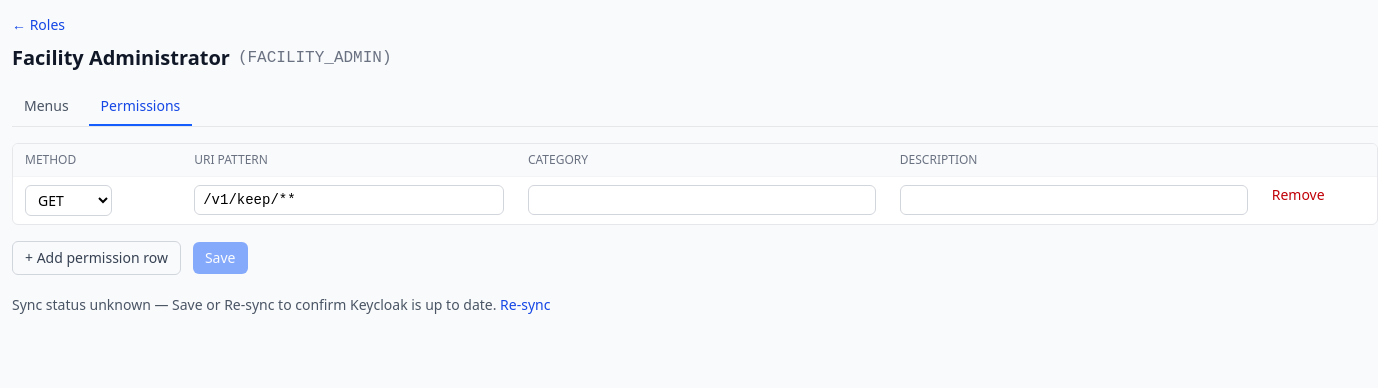
it: RolePermissionsTab › saves the COMPLETE set, then shows Synced from the server's response
The image size is (1378, 388).
Expected: the field showing "/v1/keep/**" is shown, [194,185,504,215]
Click the button "+ Add permission row".
click(96, 258)  # box [12,241,181,275]
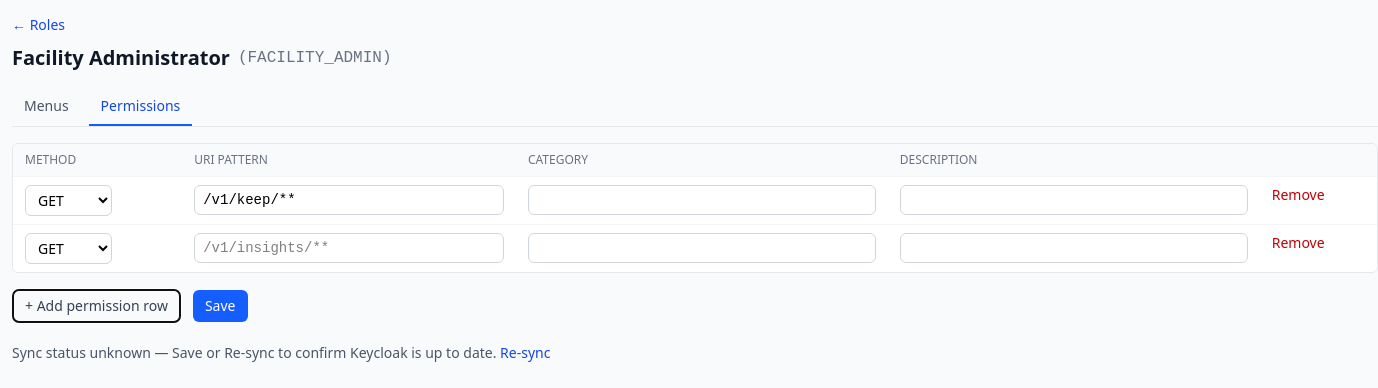
Select "POST" in the dropdown named "Method, row 2" at coordinates (68, 248), box [25,233,112,264]
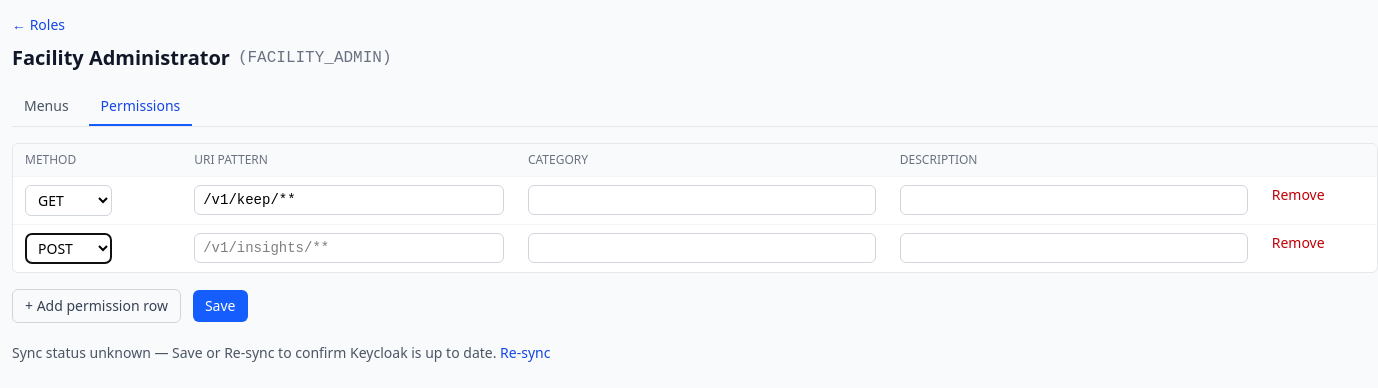
Type "/v1/events/**" into the field with placeholder "/v1/insights/**".
click(349, 248); type("/v1/events/**")  # box [194,233,504,263]
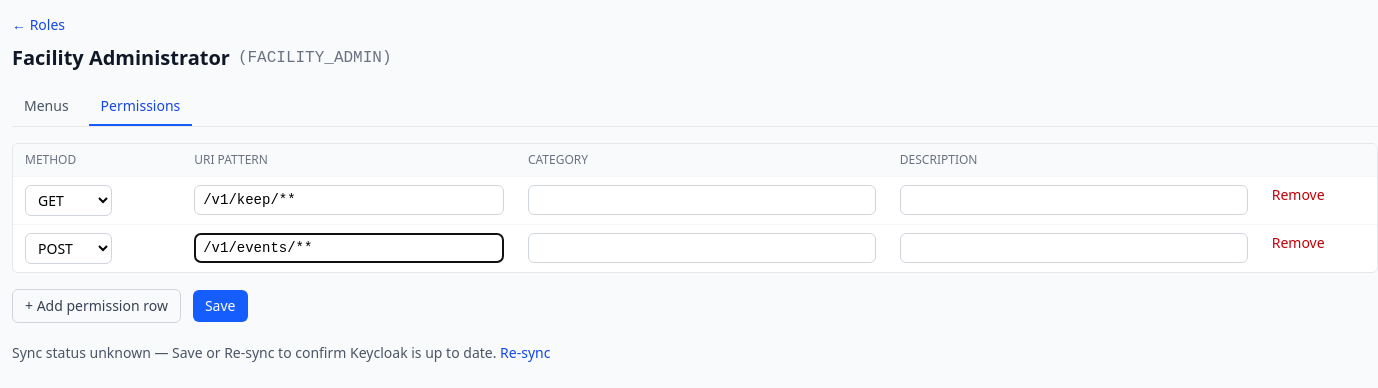
Click the button "Save".
click(220, 306)  # box [193,290,248,322]
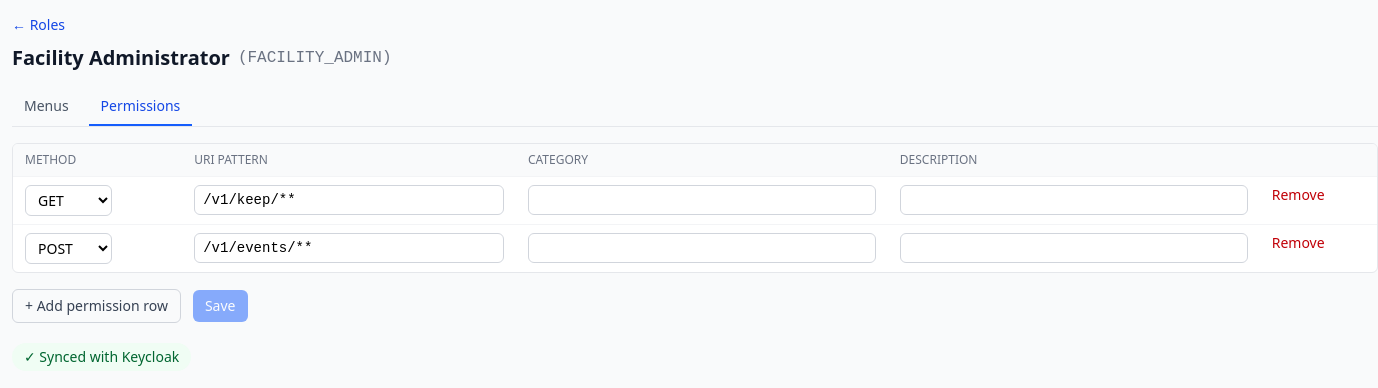
Result: the text "✓ Synced with Keycloak" is shown at [12,343,191,371]
Result: the button "Save" is disabled at [193,290,248,322]
